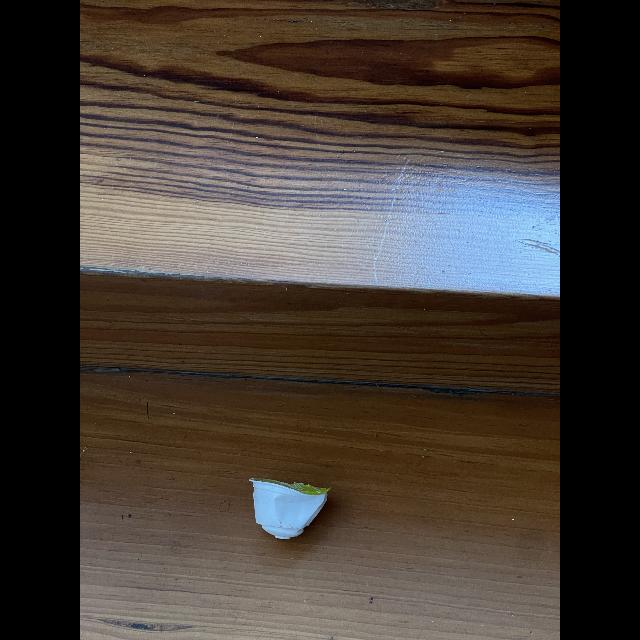damaged_capsule: (243, 476, 344, 550)
